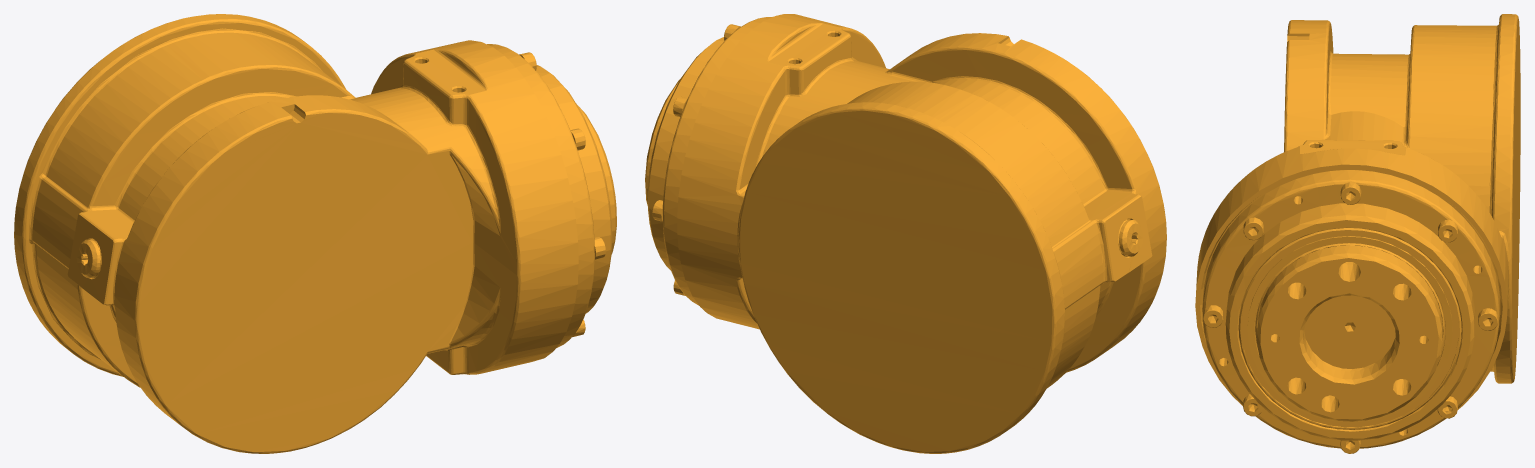
The model's file is ABBIRB1300Link5.dae.
3 renders of one model, left to right at view 1: azimuth 30°, elevation 25°; view 2: azimuth 150°, elevation 25°; view 3: azimuth 270°, elevation 25°, orthographic. The views are drawn at different scales.
Parts seen in each view (by area): view 1: node_0872609a_bdea_49e6_afaf_ea2076f791d7_mesh0; view 2: node_0872609a_bdea_49e6_afaf_ea2076f791d7_mesh0; view 3: node_0872609a_bdea_49e6_afaf_ea2076f791d7_mesh0.
Part boxes in pixels (x1=…): node_0872609a_bdea_49e6_afaf_ea2076f791d7_mesh0: x1=14, y1=14, x2=616, y2=453; node_0872609a_bdea_49e6_afaf_ea2076f791d7_mesh0: x1=645, y1=14, x2=1166, y2=453; node_0872609a_bdea_49e6_afaf_ea2076f791d7_mesh0: x1=1195, y1=14, x2=1520, y2=453.
Bounding box in the file's own units: 0.1417 × 0.0875 × 0.0994.
